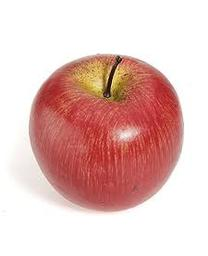apple: (28, 53, 184, 212)
